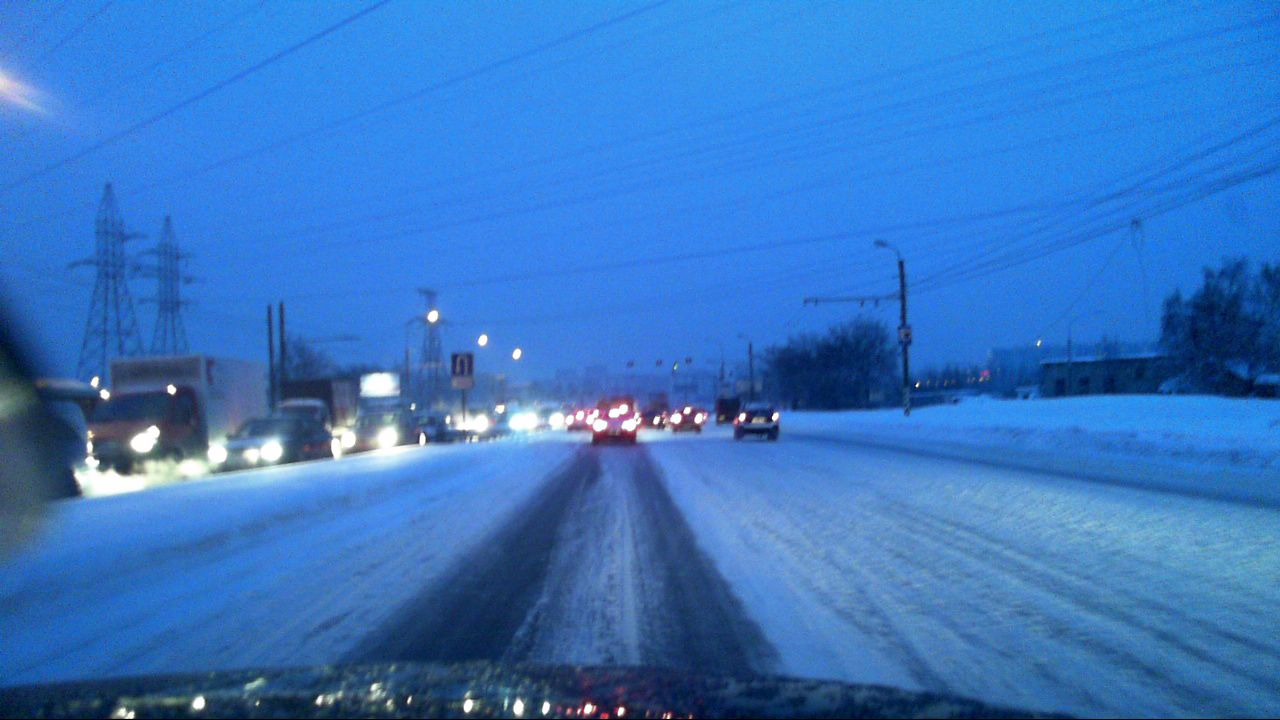U-turn: (452, 353, 472, 376)
